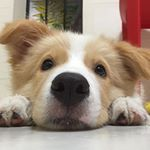puppy: (1, 17, 149, 134)
